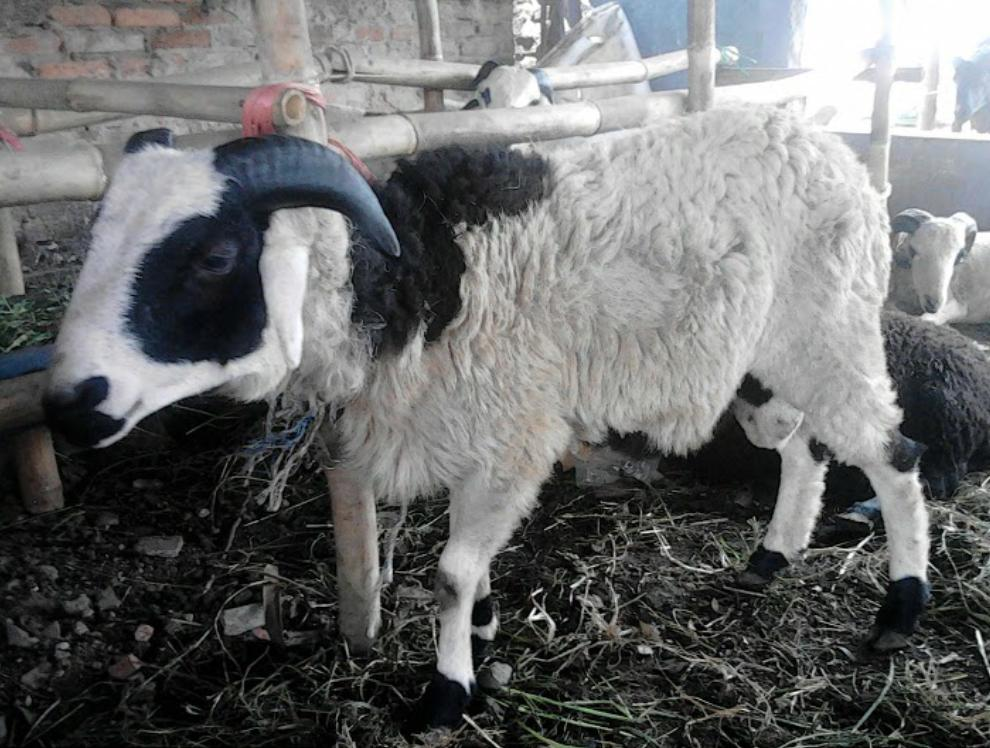Sheep: (22, 95, 404, 467)
